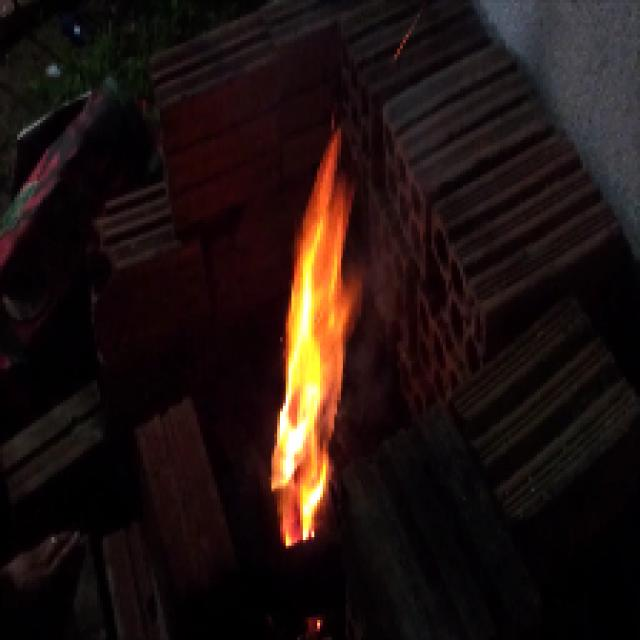fire: (272, 127, 356, 543)
